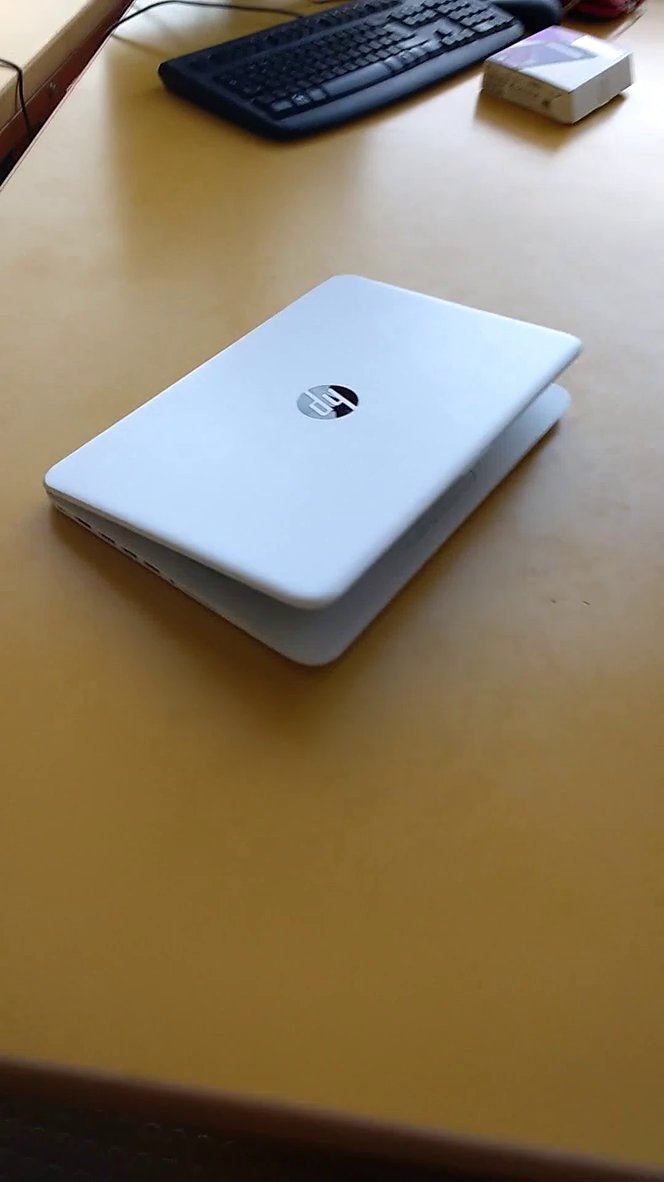laptop: (38, 262, 620, 694)
